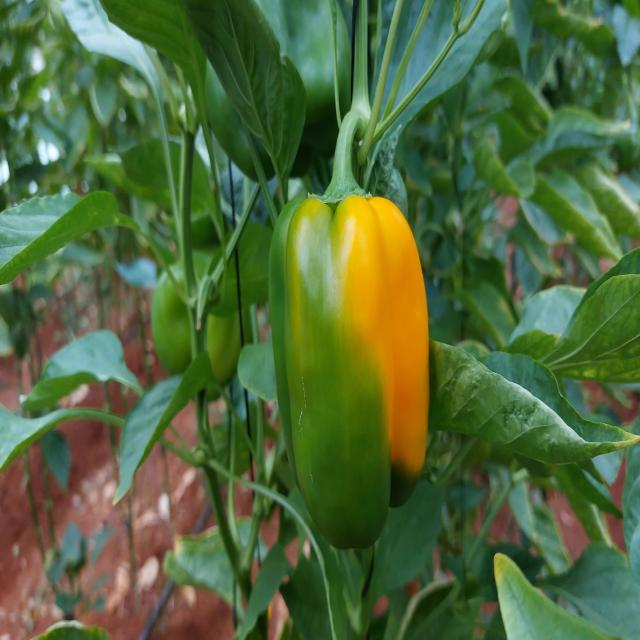GreenishYellow--Can-be-Harvested: (259, 172, 458, 558)
